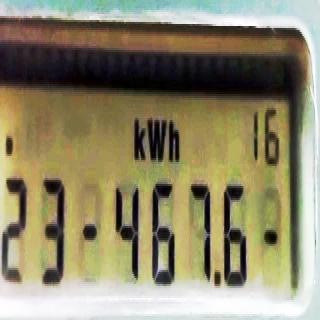-: (264, 222, 278, 256), (82, 218, 98, 247), (212, 264, 222, 292), (5, 130, 14, 160)
1: (252, 106, 260, 168)
2: (0, 168, 28, 296)
3: (41, 172, 66, 292)
4: (114, 181, 140, 290)
6: (149, 177, 177, 290), (223, 175, 248, 289), (264, 98, 281, 171)
7: (190, 174, 213, 284)
